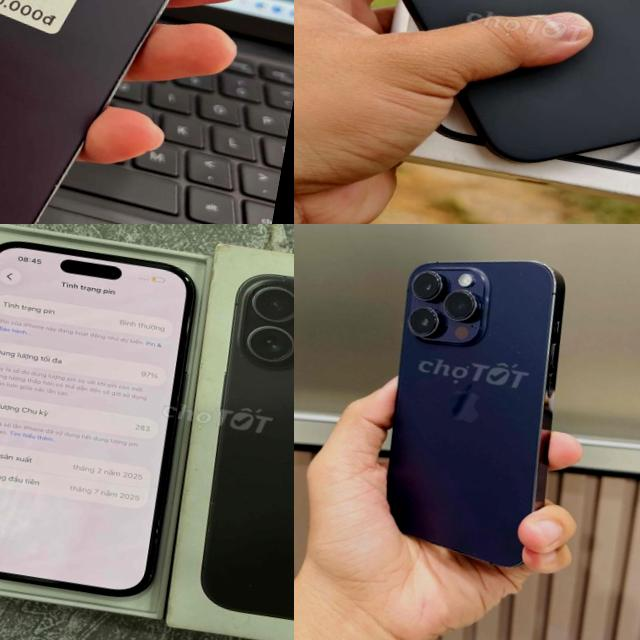gen_14: (356, 234, 594, 592), (0, 0, 285, 224)
gen_15: (294, 0, 640, 204)
gen_16: (0, 241, 193, 596)
